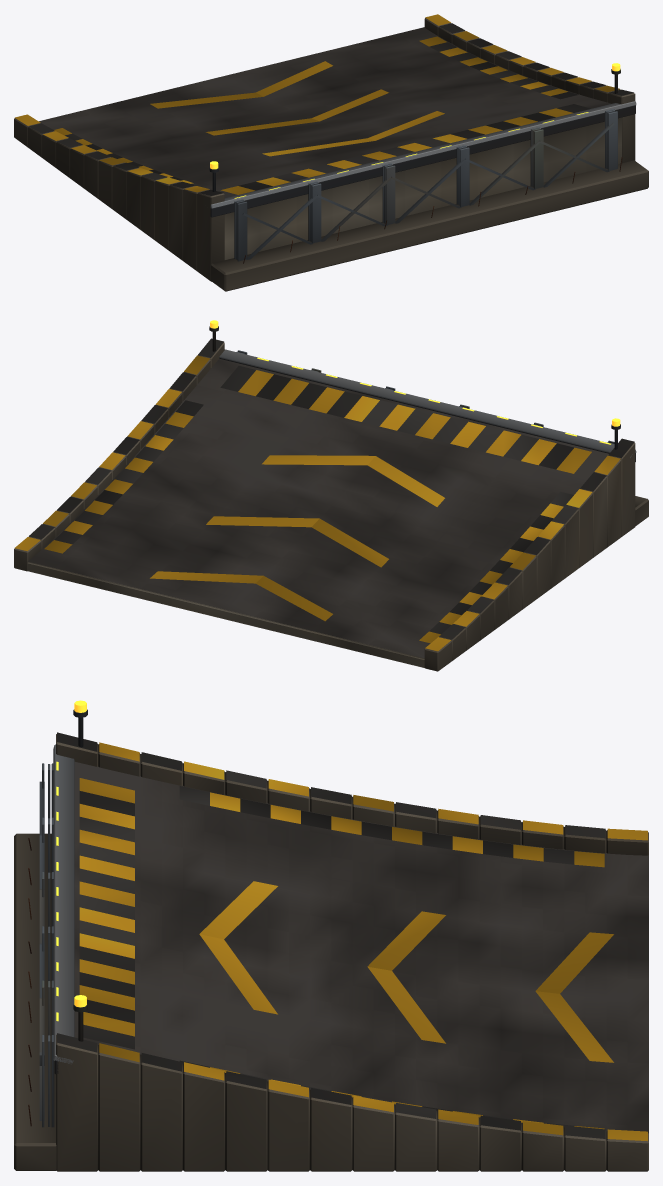
File: jump_ramp.glb
3 renders of one model, top to bottom at view 1: azimuth 30°, elevation 25°; view 2: azimuth 150°, elevation 25°; view 3: azimuth 270°, elevation 25°, orthographic. The views are drawn at different scales.
Visible parts, largest first — view 1: road_surface, concrete_dark, concrete, hazard, steel_beam, metal_dark, metal_bare; view 2: road_surface, hazard, concrete_dark, metal_bare, concrete; view 3: road_surface, concrete_dark, hazard, metal_bare, steel_beam.
Part boxes in pixels (left/top/right/bottom): road_surface: left=39, top=27, right=611, bottom=197; concrete_dark: left=14, top=18, right=648, bottom=291; concrete: left=224, top=117, right=621, bottom=259; hazard: left=15, top=14, right=633, bottom=195; steel_beam: left=234, top=109, right=617, bottom=261; metal_dark: left=209, top=69, right=635, bottom=217; metal_bare: left=210, top=101, right=636, bottom=208; road_surface: left=27, top=358, right=608, bottom=658; hazard: left=15, top=338, right=634, bottom=651; concrete_dark: left=14, top=342, right=648, bottom=671; metal_bare: left=219, top=349, right=636, bottom=457; concrete: left=27, top=562, right=424, bottom=667; road_surface: left=74, top=762, right=648, bottom=1133; concrete_dark: left=14, top=734, right=648, bottom=1171; hazard: left=57, top=732, right=647, bottom=1141; metal_bare: left=53, top=744, right=74, bottom=1064; steel_beam: left=39, top=763, right=54, bottom=1127.
Size of what is drawn, in the model's own units: 14.9 by 3.71 by 12.85.
